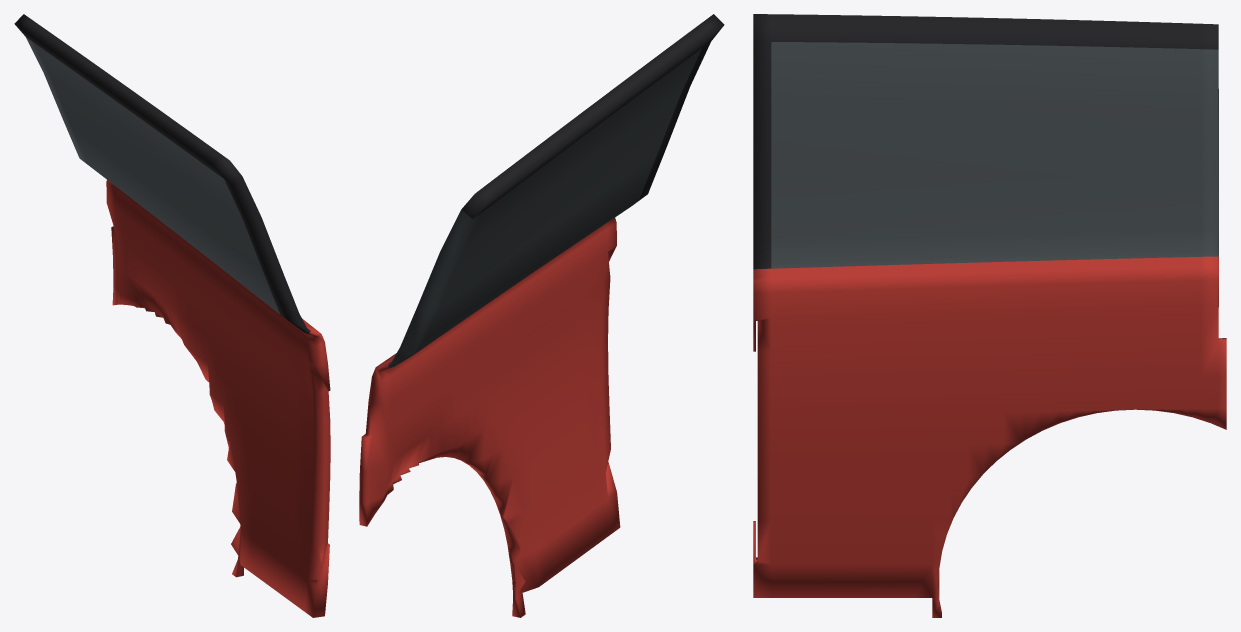
File: Hatch_Door_RL.fbx
3 views of the same model, side by side, from view 1: azimuth 30°, elevation 25°; view 2: azimuth 150°, elevation 25°; view 3: azimuth 270°, elevation 25° (orthographic). The views are drawn at different scales.
Parts seen in each view (by area): view 1: Hatch_Door_RL_LOD0; view 2: Hatch_Door_RL_LOD0; view 3: Hatch_Door_RL_LOD0.
Boxes of the visible parts, x1,y1,x2,y2 form: Hatch_Door_RL_LOD0: (14, 14, 330, 617); Hatch_Door_RL_LOD0: (359, 14, 724, 617); Hatch_Door_RL_LOD0: (753, 14, 1226, 617).
Size of what is drawn, in the model's own units: 0.2824 by 1.19 by 0.9255.
